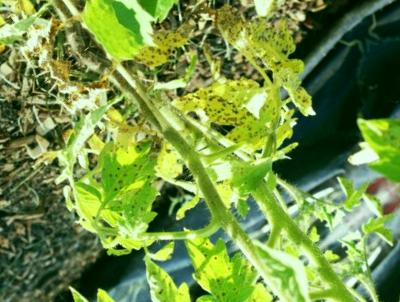Tomato Septoria leaf spot: (53, 119, 193, 256), (194, 0, 335, 126), (166, 45, 287, 167), (167, 224, 264, 302), (113, 251, 217, 302)
